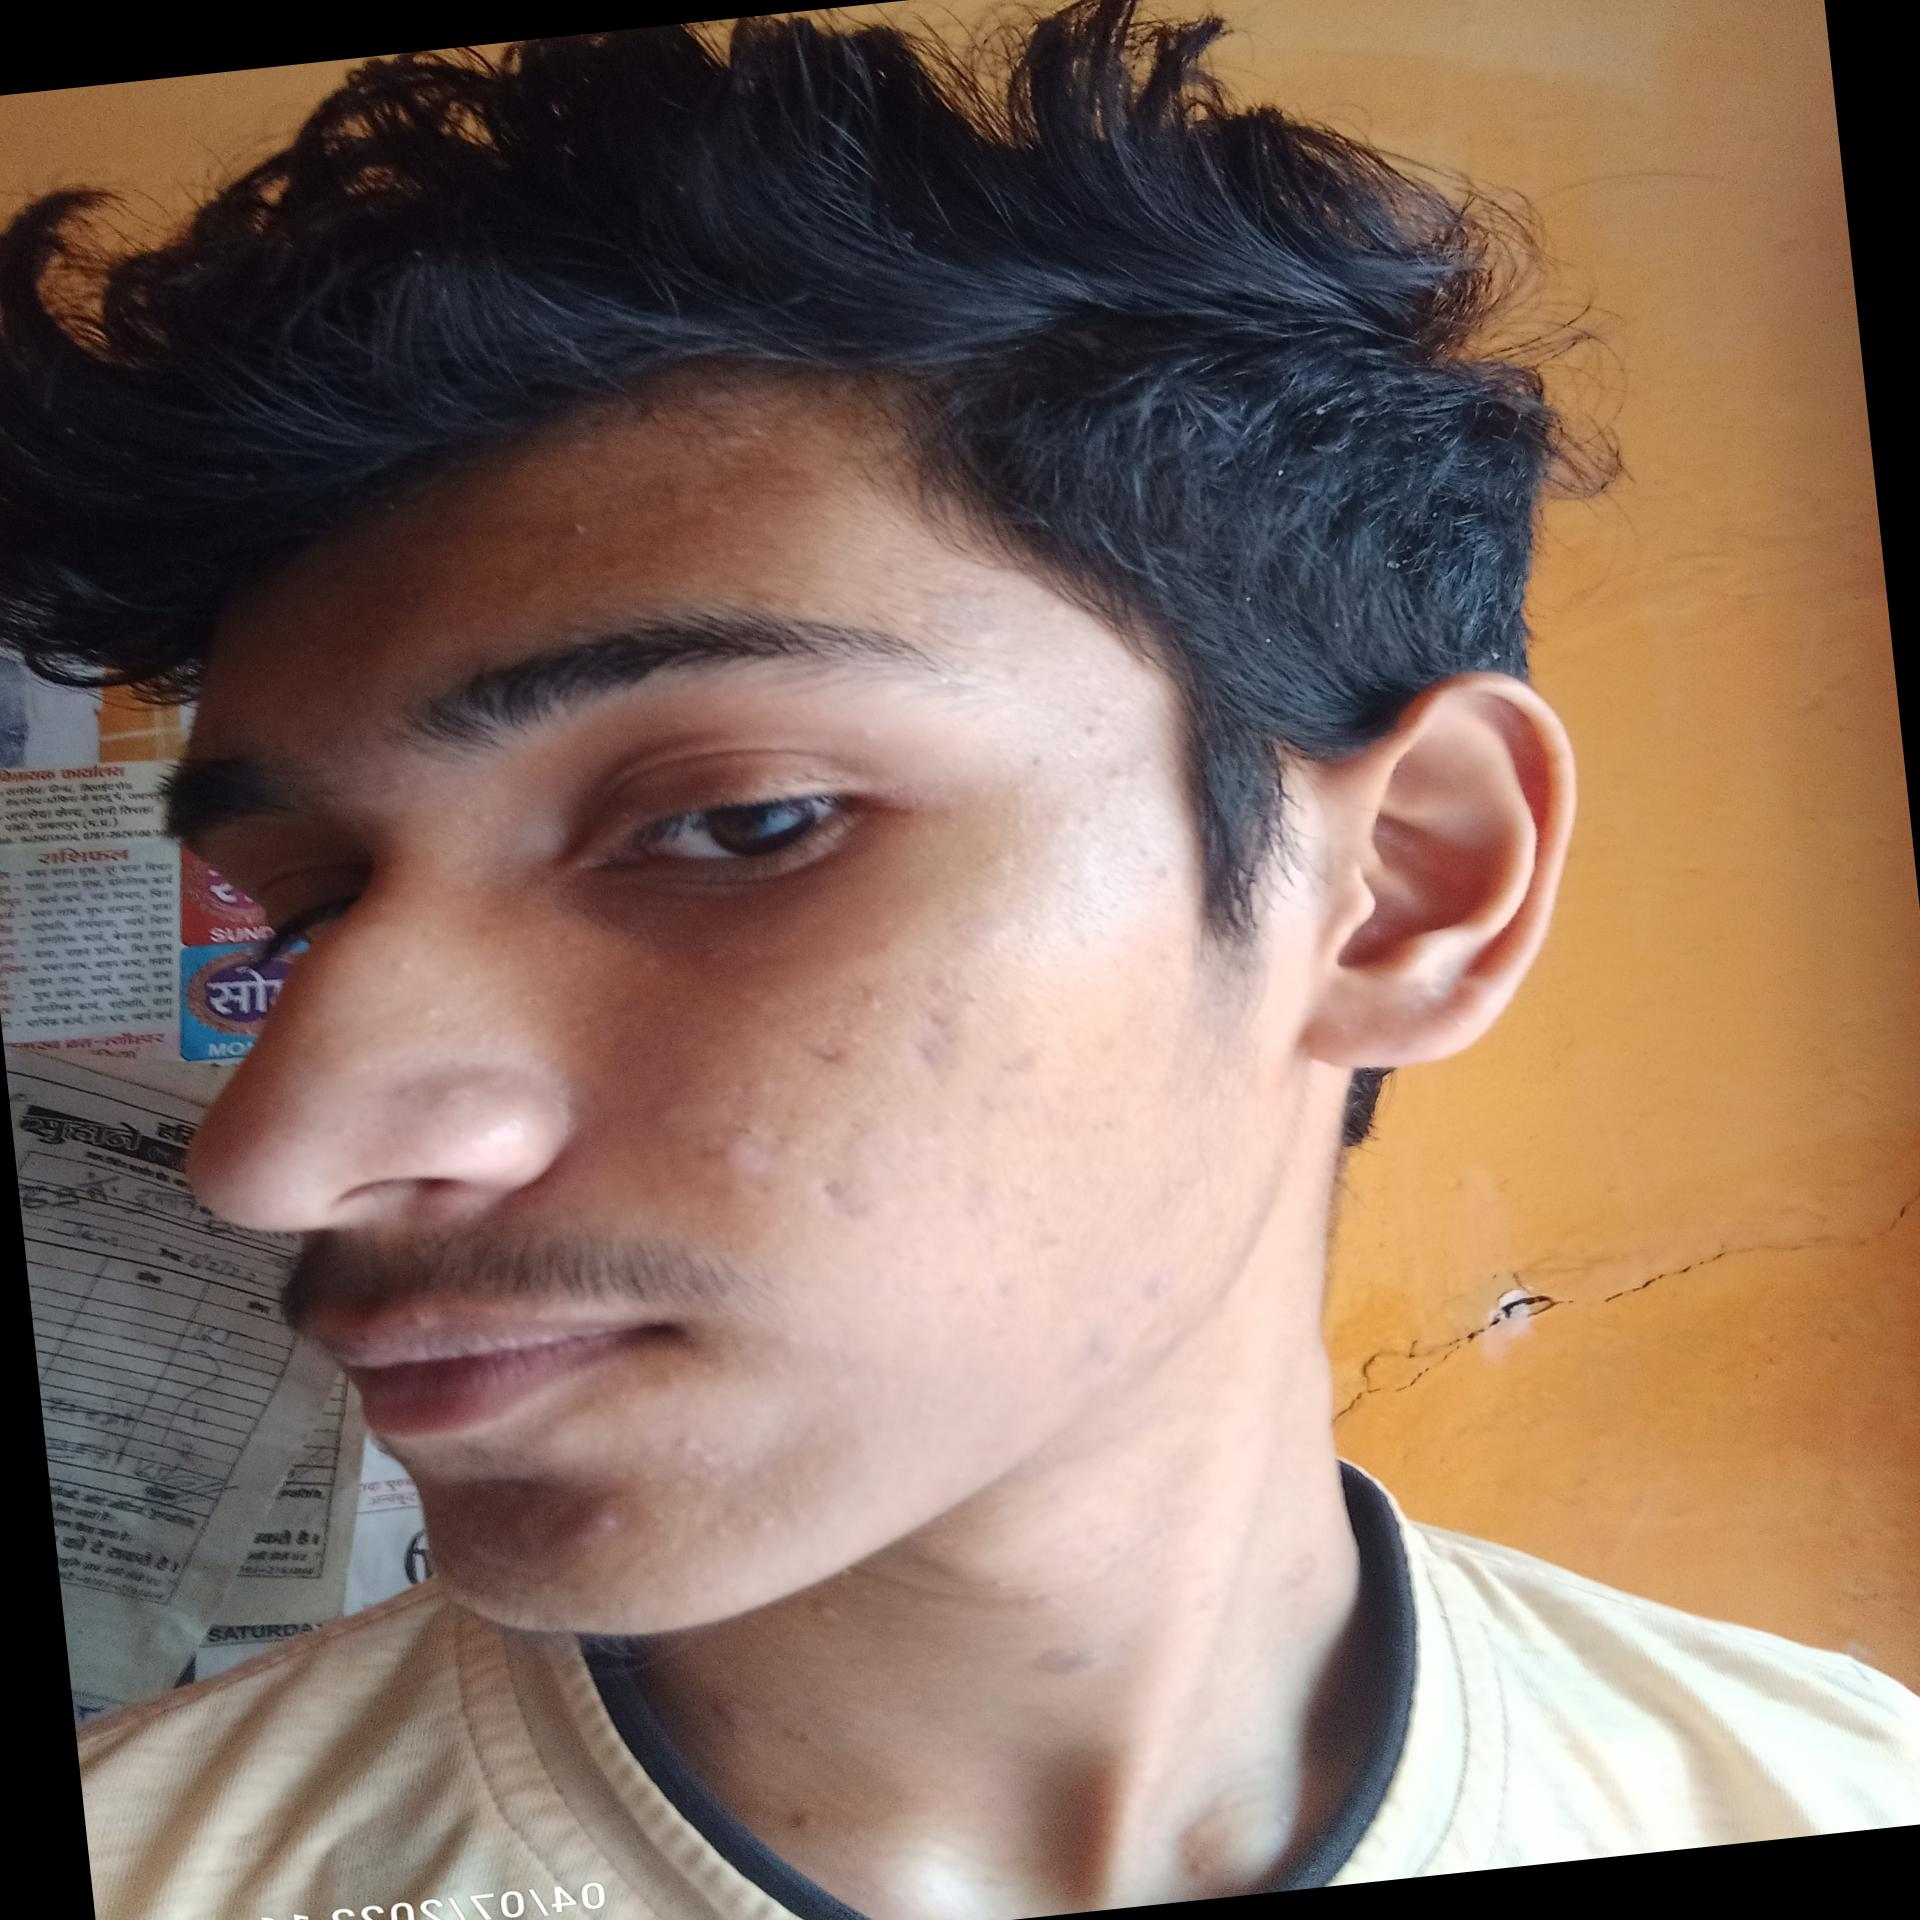Acne: (902, 967, 995, 1078), (682, 1118, 796, 1182), (804, 1166, 902, 1215), (777, 1030, 867, 1078), (949, 1160, 1000, 1229), (575, 1503, 638, 1547), (1069, 1322, 1129, 1363), (997, 1043, 1055, 1078), (1132, 1273, 1180, 1306), (1032, 1227, 1069, 1252)
